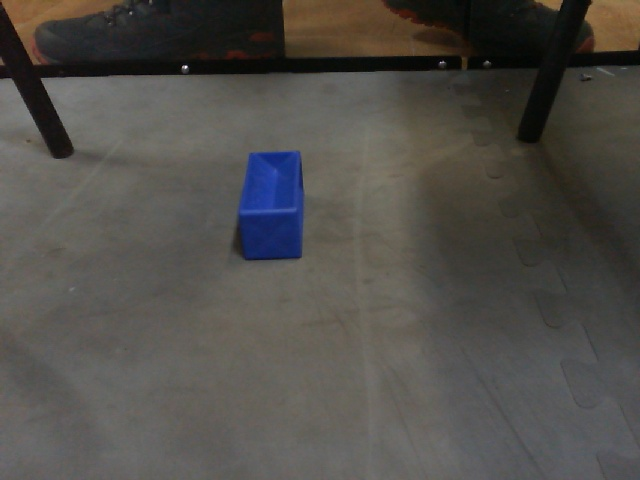BlueSample: (235, 148, 311, 270)
